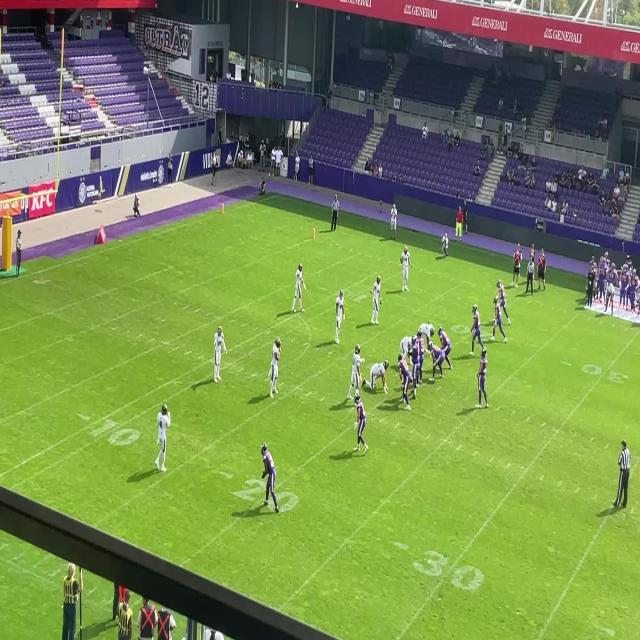1: (79, 414, 126, 444)
3: (412, 540, 448, 586)
american-football-players: (259, 441, 280, 514), (156, 402, 172, 473), (475, 347, 491, 411), (348, 343, 366, 399), (361, 357, 389, 393), (352, 393, 368, 455), (213, 325, 227, 382), (269, 335, 281, 399), (496, 279, 512, 327), (397, 352, 410, 411), (334, 286, 347, 344), (292, 261, 306, 313), (470, 302, 484, 354), (436, 326, 452, 371), (427, 341, 446, 378), (492, 295, 506, 342), (408, 338, 419, 397), (399, 246, 413, 292), (413, 330, 424, 387), (370, 275, 382, 324), (399, 334, 418, 363), (418, 320, 435, 343)
